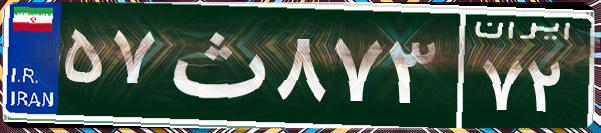2: (525, 38, 570, 115)
3: (385, 28, 445, 110)
5: (57, 26, 110, 107)
7: (330, 28, 385, 110), (475, 38, 525, 113), (110, 28, 158, 105)
8: (273, 28, 330, 110)
ث: (158, 15, 273, 115)
